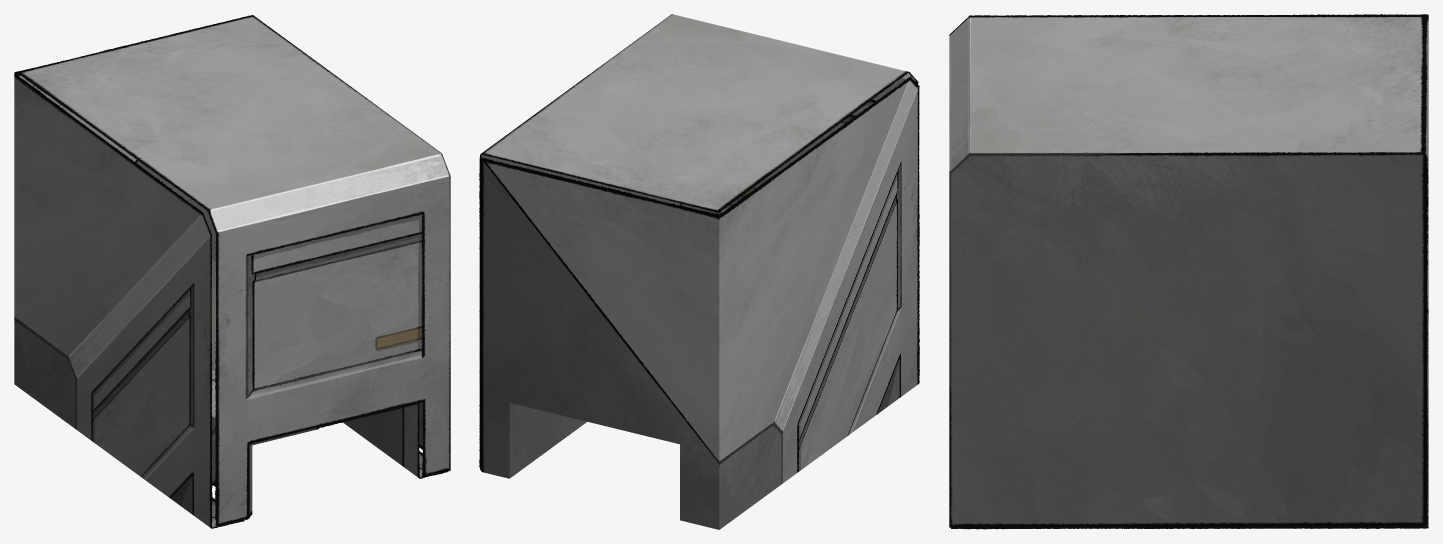
3 views of the same model, side by side, from view 1: azimuth 30°, elevation 25°; view 2: azimuth 150°, elevation 25°; view 3: azimuth 270°, elevation 25° (orthographic). The views are drawn at different scales.
Parts seen in each view (by area): view 1: 立方体; view 2: 立方体; view 3: 立方体.
Boxes of the visible parts, x1,y1,x2,y2 form: 立方体: (14, 15, 450, 528); 立方体: (479, 14, 919, 529); 立方体: (949, 14, 1428, 529).
Size of the model in its own units: 1427 by 1795 by 2072.
1 material, 1 textured.
